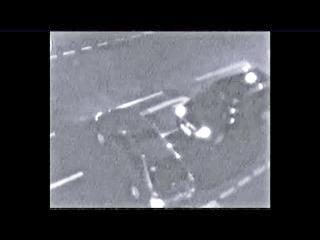Car: (95, 111, 190, 207), (178, 74, 268, 137)
